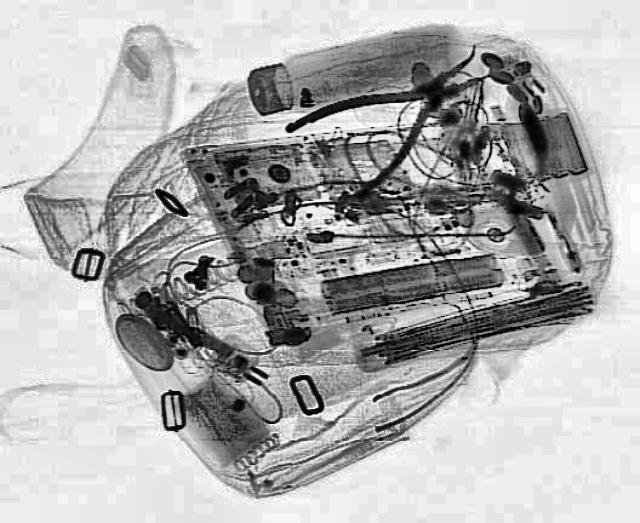Pliers: (276, 24, 528, 200)
